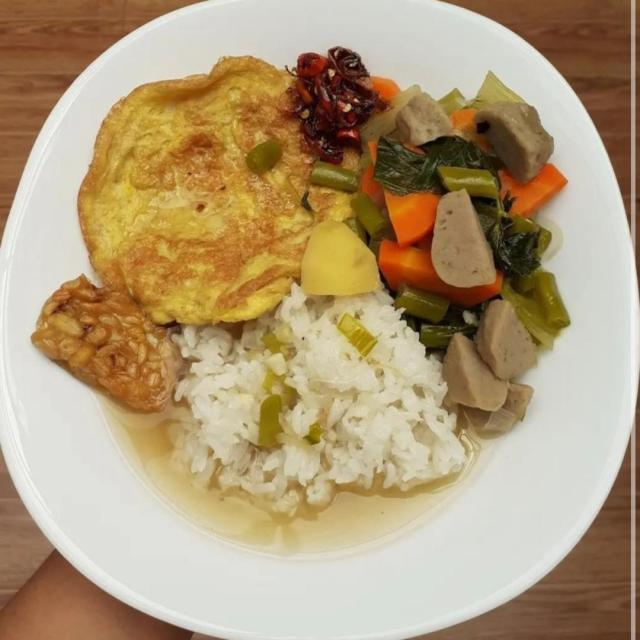Egg: (75, 61, 385, 329)
Plate: (0, 0, 632, 635)
Rice: (162, 284, 470, 516)
Vegetables: (305, 80, 574, 436)
